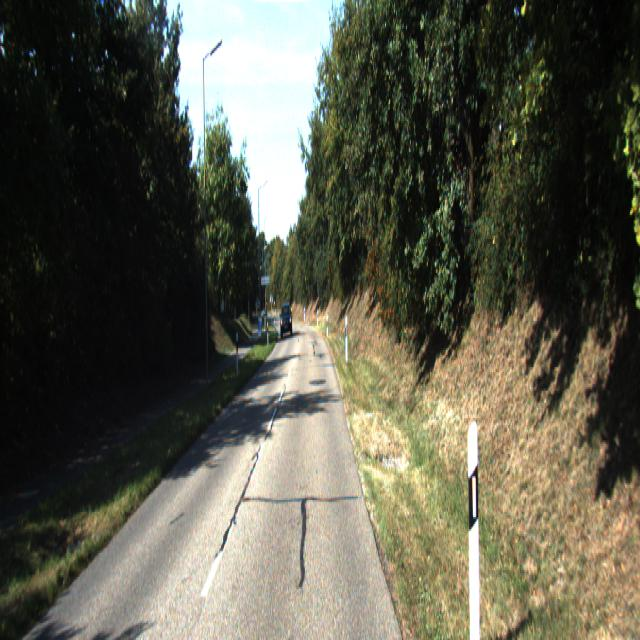Car: (279, 301, 293, 344)
